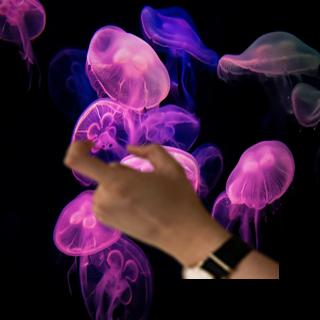HATE: (62, 135, 211, 253)
